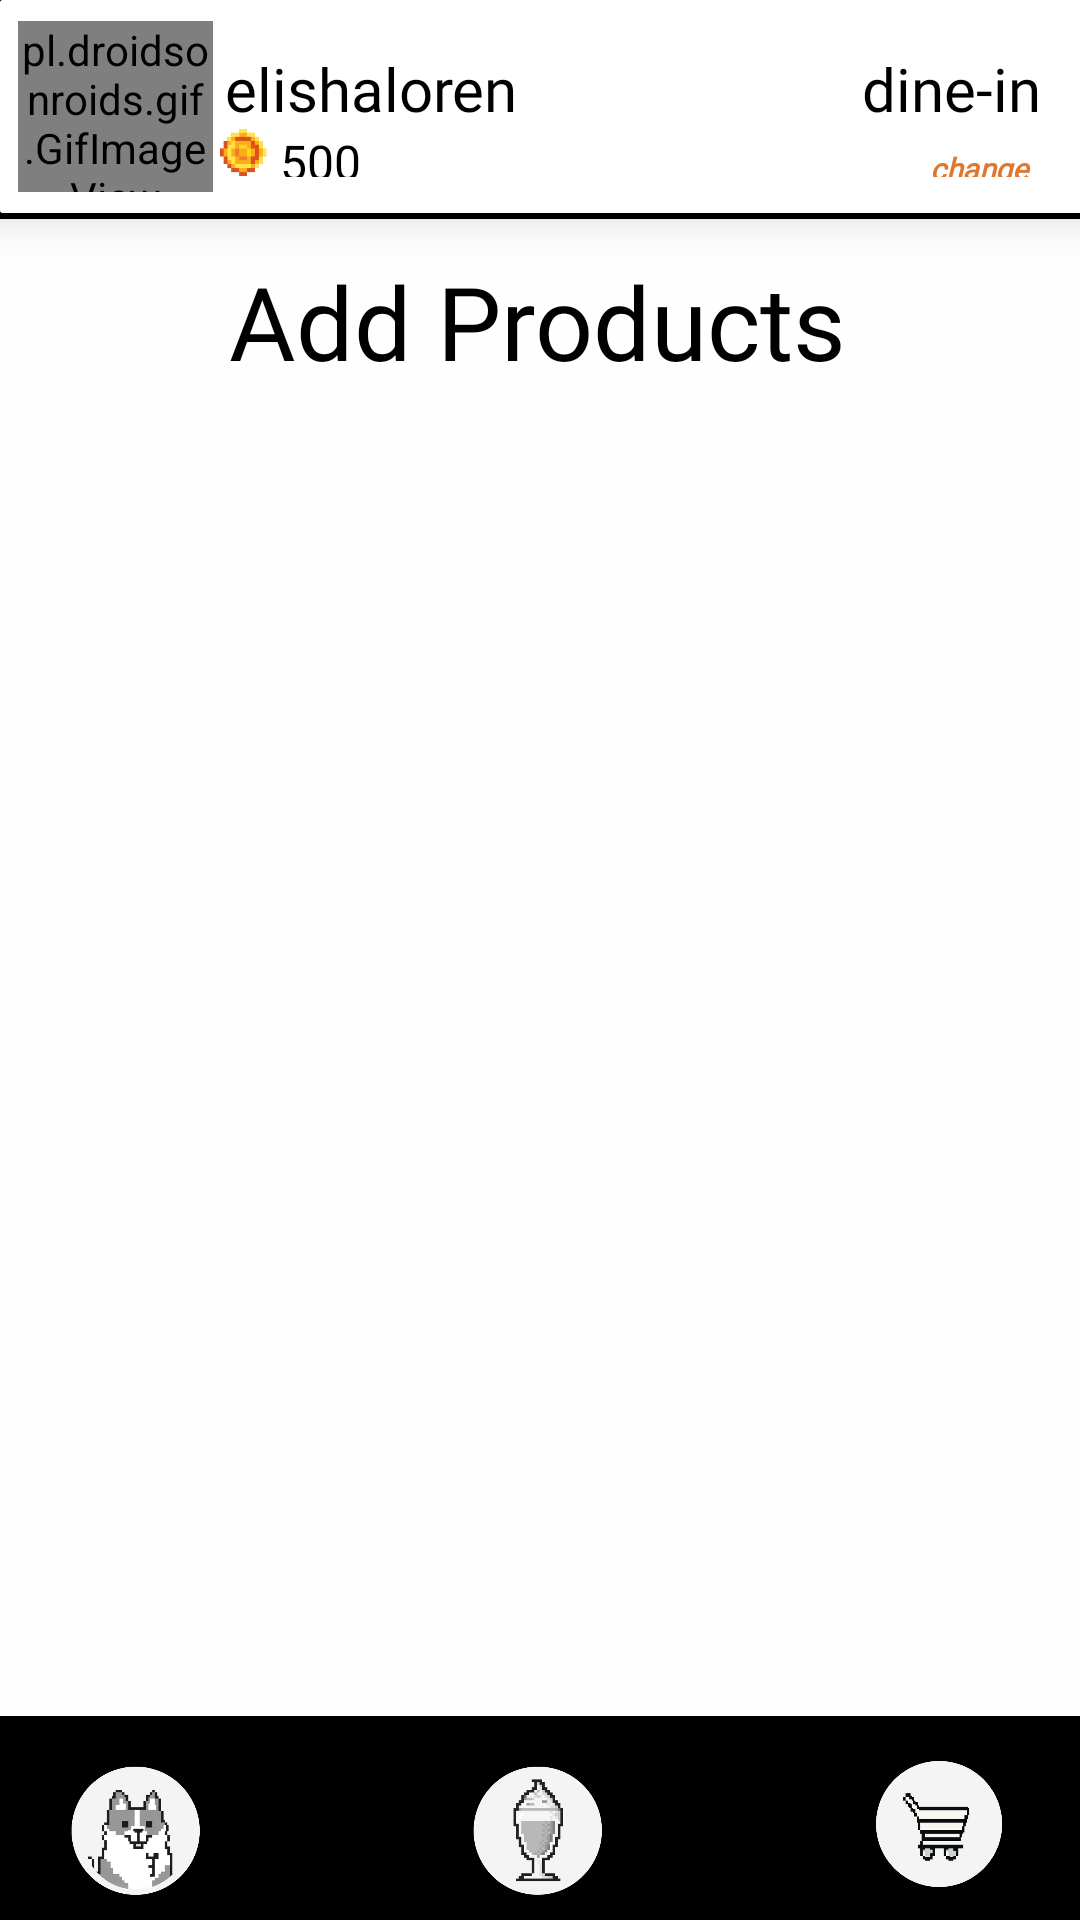

Icon bounding boxes for this 1080 × 1920 phone screenshot, format (x1, y1, x2, y2):
basket: (876, 1761, 1002, 1887)
cashewcoins: (220, 129, 267, 176)
icecream: (473, 1766, 602, 1895)
